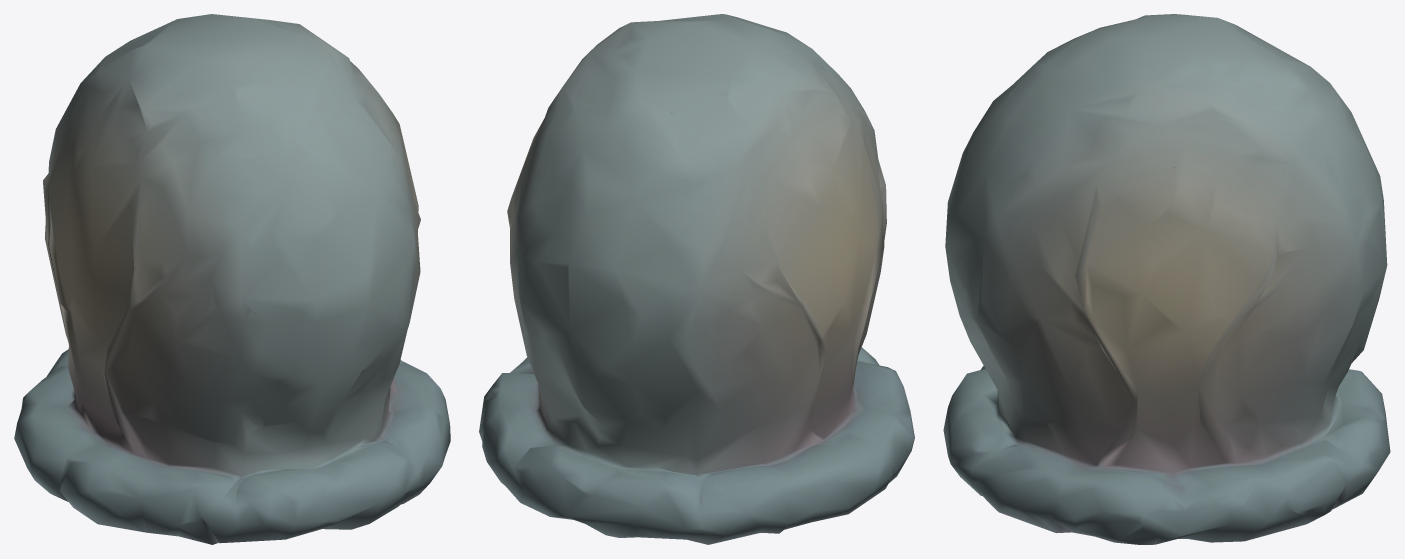
File: tasiyici_nefes_kesesi.glb
The picture shows the model from 3 angles, left to right: view 1: azimuth 30°, elevation 25°; view 2: azimuth 150°, elevation 25°; view 3: azimuth 270°, elevation 25°; orthographic projection.
Visible parts, largest first — view 1: tripo_node_5b703d83-6f72-4eb7-a229-8f40d2ae3987; view 2: tripo_node_5b703d83-6f72-4eb7-a229-8f40d2ae3987; view 3: tripo_node_5b703d83-6f72-4eb7-a229-8f40d2ae3987.
Part boxes in pixels (x1,y1,x2,y2): tripo_node_5b703d83-6f72-4eb7-a229-8f40d2ae3987: [14, 14, 450, 544]; tripo_node_5b703d83-6f72-4eb7-a229-8f40d2ae3987: [479, 14, 914, 544]; tripo_node_5b703d83-6f72-4eb7-a229-8f40d2ae3987: [943, 14, 1390, 544].
Bounding box in the file's own units: 0.9081 × 1 × 0.9146.
1 material, 1 textured.
